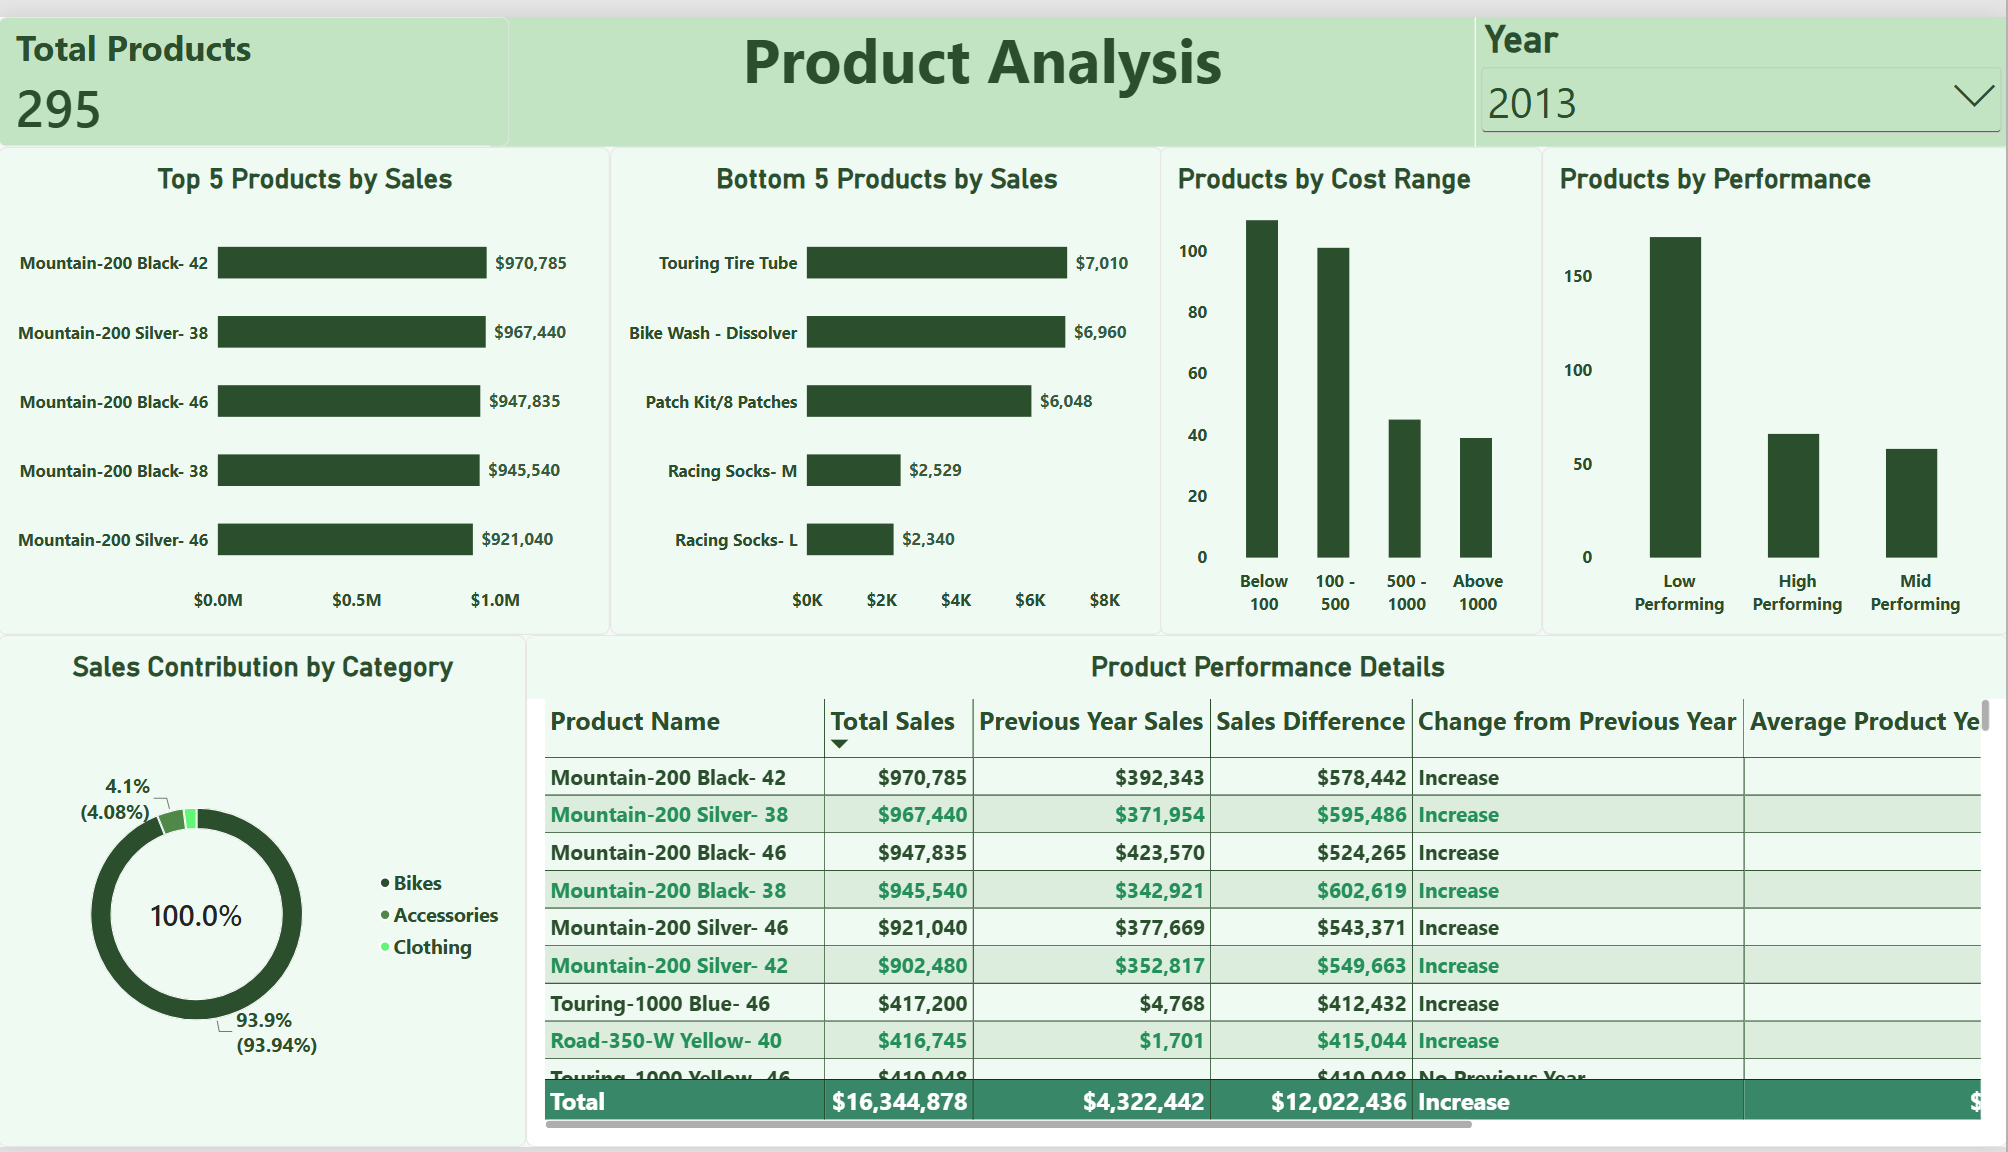

The page's visual inventory and layout, read from the dashboard file:
{"tool":"powerbi","page":{"name":"Product Analysis","canvas":[1920,1080],"ordinal":2},"visuals":[{"type":"clusteredBarChart","title":"Top 5 Products by Sales","fields":{"Category":["dim_products.product_name"],"Y":["fact_sales.Total Sales"]},"box":[0,124.3,585.2,466.6],"z":0},{"type":"clusteredBarChart","title":"Bottom 5 Products by Sales","fields":{"Category":["dim_products.product_name"],"Y":["fact_sales.Total Sales"]},"box":[585.2,124.3,527.8,466.6],"z":1000},{"type":"clusteredColumnChart","title":"Products by Cost Range","fields":{"Category":["dim_products.Cost Range"],"Y":["CountNonNull(dim_products.product_key)"]},"box":[1111.1,124.3,365.3,466.6],"z":2000},{"type":"donutChart","title":"Sales Contribution by Category","fields":{"Category":["dim_products.category"],"Y":["fact_sales.Sales Contribution %"]},"box":[0,590.9,504.9,489.6],"z":3000},{"type":"clusteredColumnChart","title":"Products by Performance","fields":{"Category":["dim_products.Product Performance"],"Y":["CountNonNull(dim_products.product_key)"]},"box":[1476.3,124.3,447.5,466.6],"z":4000},{"type":"tableEx","title":"Product Performance Details","fields":{"Values":["dim_products.product_name","fact_sales.Total Sales","fact_sales.Previous Year Sales","fact_sales.YoY Sales Difference","fact_sales.Change from Previous Year","fact_sales.Average Product Yearly Sales","fact_sales.Difference from Average Sales","fact_sales.Performance vs Average"]},"box":[504.9,590.9,1417.1,489.6],"z":5000},{"type":"slicer","fields":{"Values":["dim_date.Year"]},"box":[1412.4,0,507.6,124],"z":6000},{"type":"textbox","box":[470.8,0,941.6,124],"z":7000},{"type":"cardVisual","fields":{"Data":["dim_products.Total Products"]},"box":[0,0,489.2,124],"z":8000}]}

Visuals, with their boxes in screenshot pixels (x1, y1, x2, y2), scaled from the page's 1920x1080 canvas onto the 2008x1152 screenshot:
"Top 5 Products by Sales" clusteredBarChart: BBox(0, 133, 612, 630)
"Bottom 5 Products by Sales" clusteredBarChart: BBox(612, 133, 1164, 630)
"Products by Cost Range" clusteredColumnChart: BBox(1162, 133, 1544, 630)
"Sales Contribution by Category" donutChart: BBox(0, 630, 528, 1151)
"Products by Performance" clusteredColumnChart: BBox(1544, 133, 2007, 630)
"Product Performance Details" tableEx: BBox(528, 630, 2007, 1151)
slicer - dim_date.Year: BBox(1477, 0, 2007, 132)
textbox: BBox(492, 0, 1477, 132)
cardVisual - dim_products.Total Products: BBox(0, 0, 512, 132)
